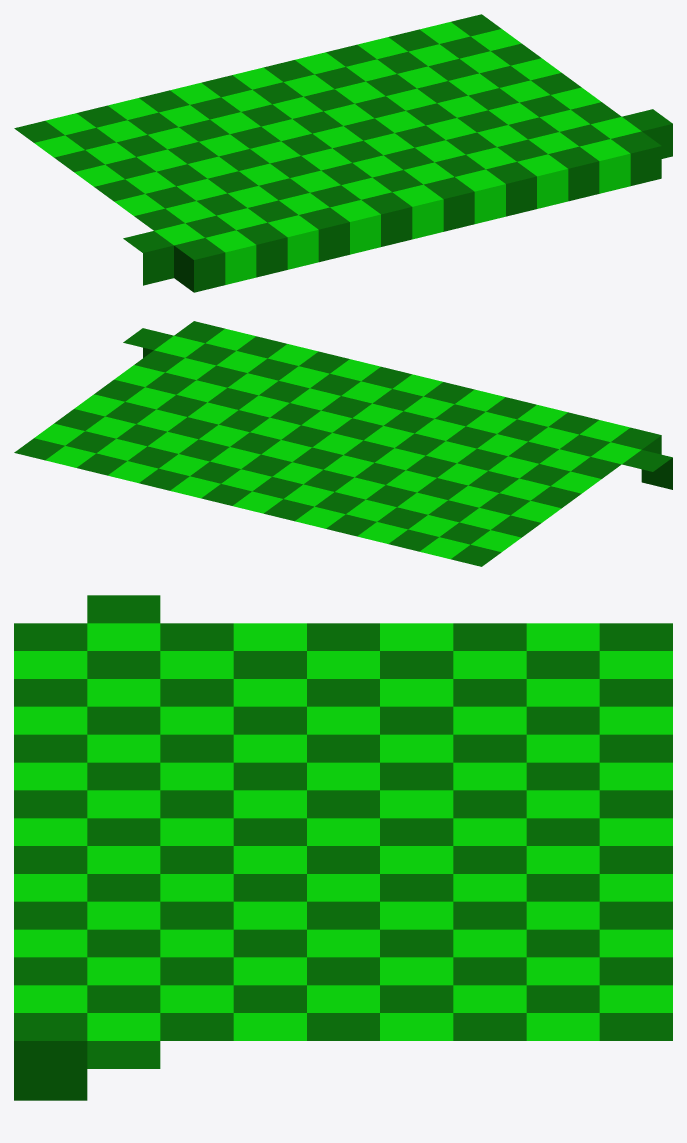
The model's file is fbx_ClassicMapStadium.fbx.
3 renders of one model, top to bottom at view 1: azimuth 30°, elevation 25°; view 2: azimuth 150°, elevation 25°; view 3: azimuth 270°, elevation 25°, orthographic. The views are drawn at different scales.
Visible parts, largest first — view 1: sm_ClassicMapStadium; view 2: sm_ClassicMapStadium; view 3: sm_ClassicMapStadium.
Boxes of the visible parts, x1,y1,x2,y2 form: sm_ClassicMapStadium: (14, 14, 672, 292); sm_ClassicMapStadium: (14, 321, 672, 566); sm_ClassicMapStadium: (14, 595, 672, 1100).
Size of the model in its own units: 0.17 by 0.01 by 0.1.
